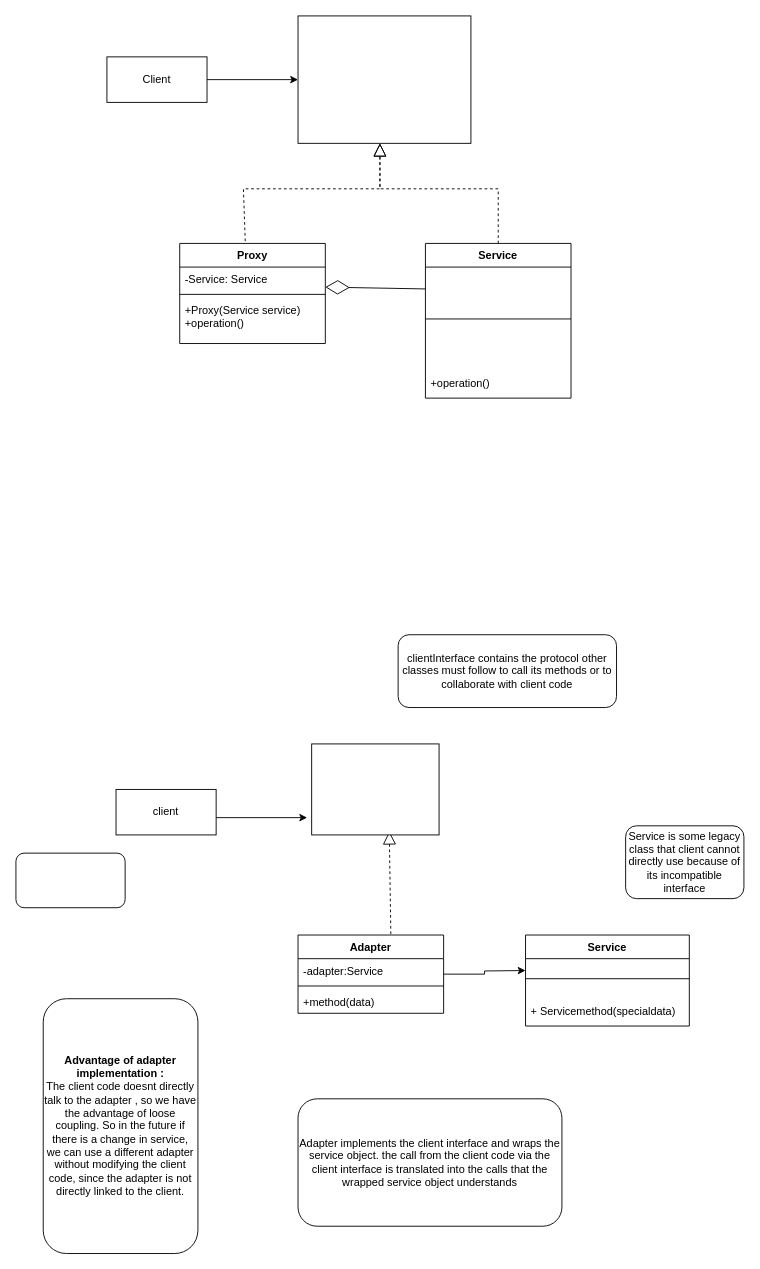
Image size: 760x1269. Some labels were removed from this diagram. Each missing label, with the box of its shape:
<<Interface>> ServiceInterface + operation(): (297, 15, 471, 143)
client contains the business logic: (15, 852, 125, 908)
«interface» ClientInterface: (311, 743, 439, 835)
